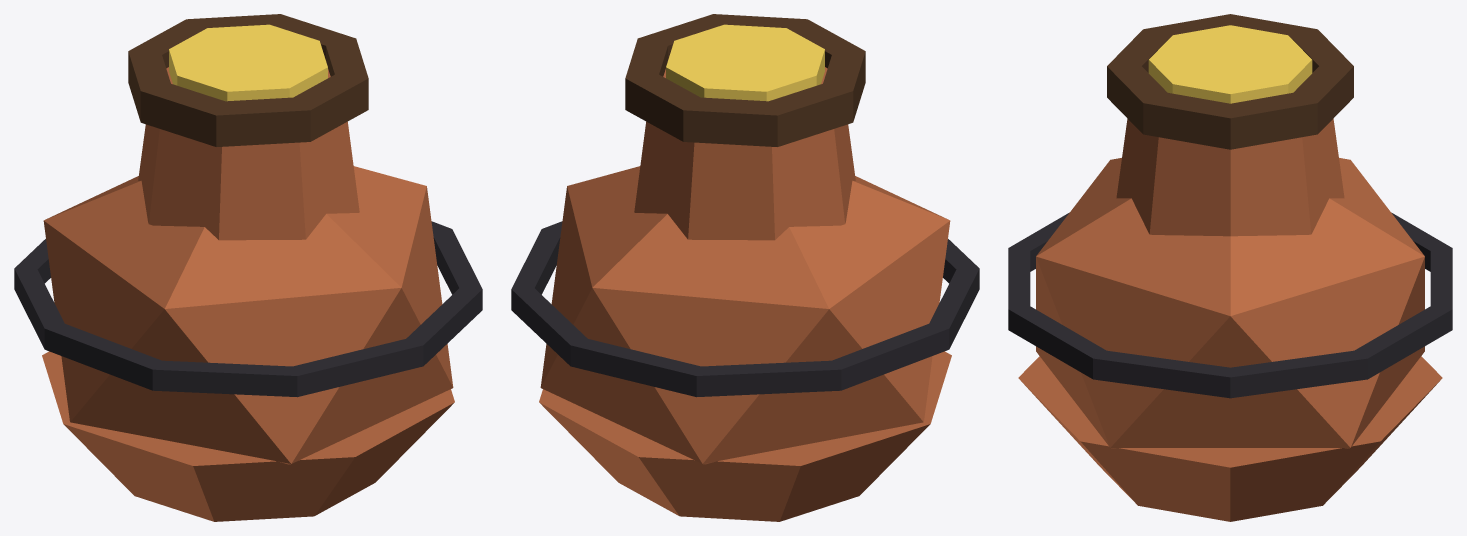
The model's file is fire_pot.fbx.
3 views of the same model, side by side, from view 1: azimuth 30°, elevation 25°; view 2: azimuth 150°, elevation 25°; view 3: azimuth 270°, elevation 25° (orthographic).
Parts seen in each view (by area): view 1: Pot, Embers_Glow; view 2: Pot, Embers_Glow; view 3: Pot, Embers_Glow.
Boxes of the visible parts, bbox=[...] form: Pot: bbox=[14, 14, 482, 521]; Embers_Glow: bbox=[169, 24, 327, 101]; Pot: bbox=[511, 14, 979, 521]; Embers_Glow: bbox=[666, 24, 824, 101]; Pot: bbox=[1008, 14, 1452, 521]; Embers_Glow: bbox=[1148, 25, 1312, 103].
Bounding box in the file's own units: 0.2861 × 0.277 × 0.2721.
Materials: 2 (2 with a texture image).
